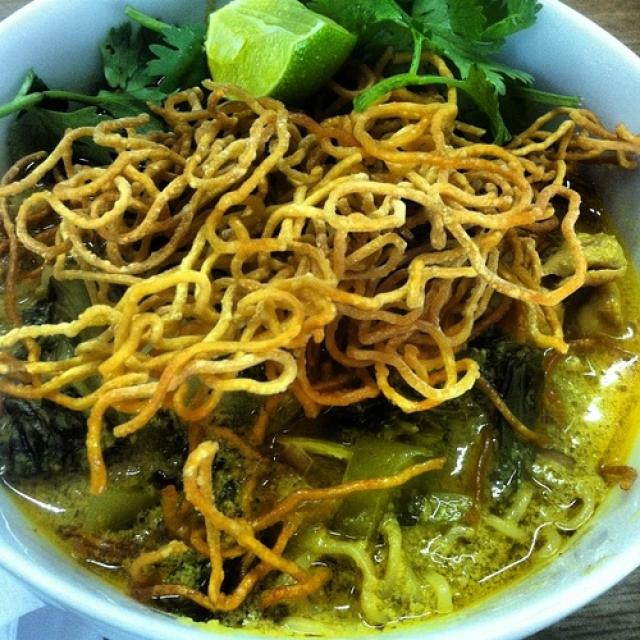面条主食: (13, 28, 613, 608)
